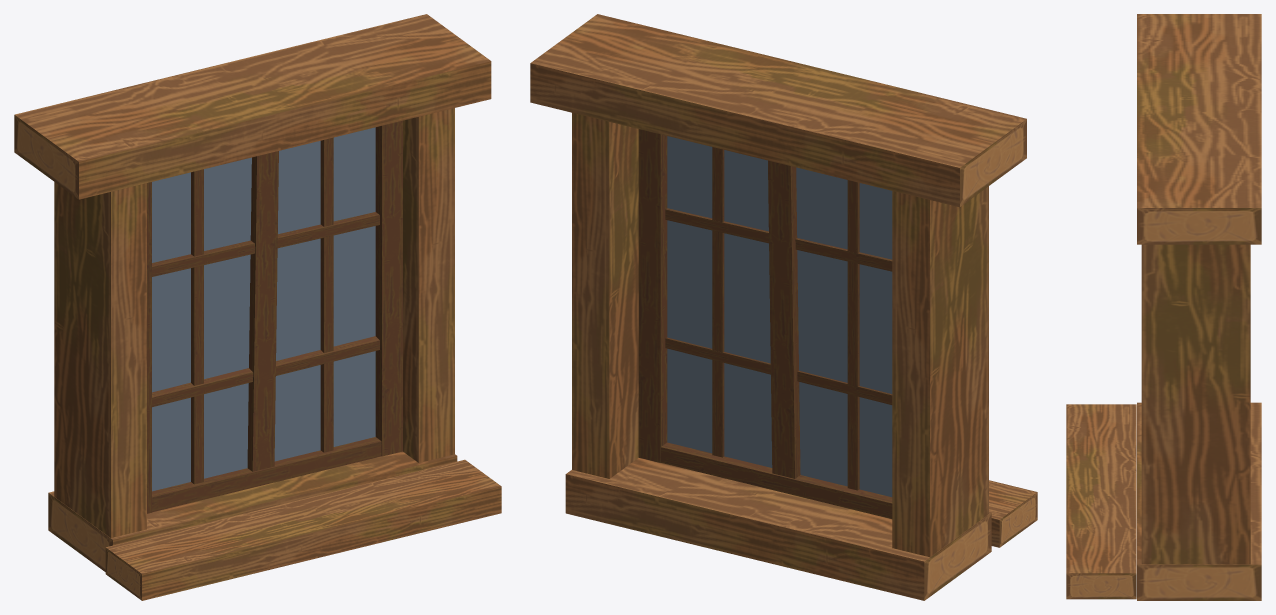
Rendered from Window_Wide_Flat1.gltf.
The picture shows the model from 3 angles, left to right: view 1: azimuth 30°, elevation 25°; view 2: azimuth 150°, elevation 25°; view 3: azimuth 270°, elevation 25°; orthographic projection. The views are drawn at different scales.
Parts seen in each view (by area): view 1: Window_Wide_Flat1; view 2: Window_Wide_Flat1; view 3: Window_Wide_Flat1.
Part boxes in pixels (bbox=[...]): Window_Wide_Flat1: bbox=[14, 14, 501, 600]; Window_Wide_Flat1: bbox=[530, 14, 1037, 600]; Window_Wide_Flat1: bbox=[1066, 14, 1261, 600].
Size of the model in its own units: 1.61 by 1.58 by 0.6834.
Materials: 2 (1 with a texture image).
